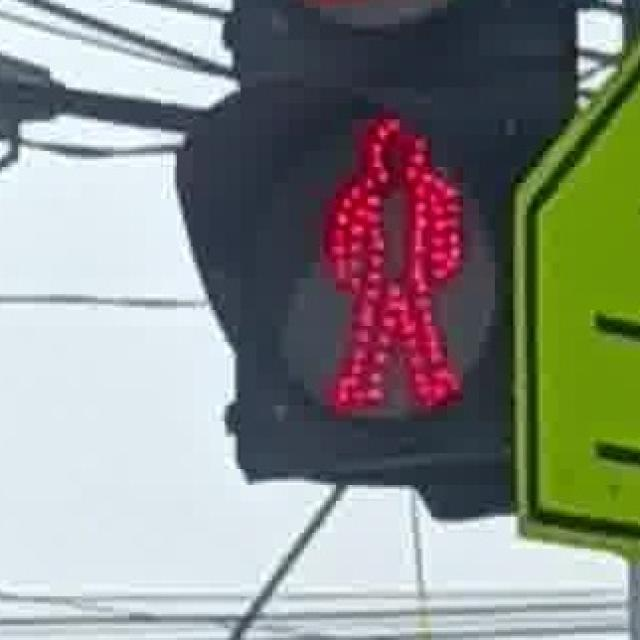red_light: (284, 88, 473, 438)
